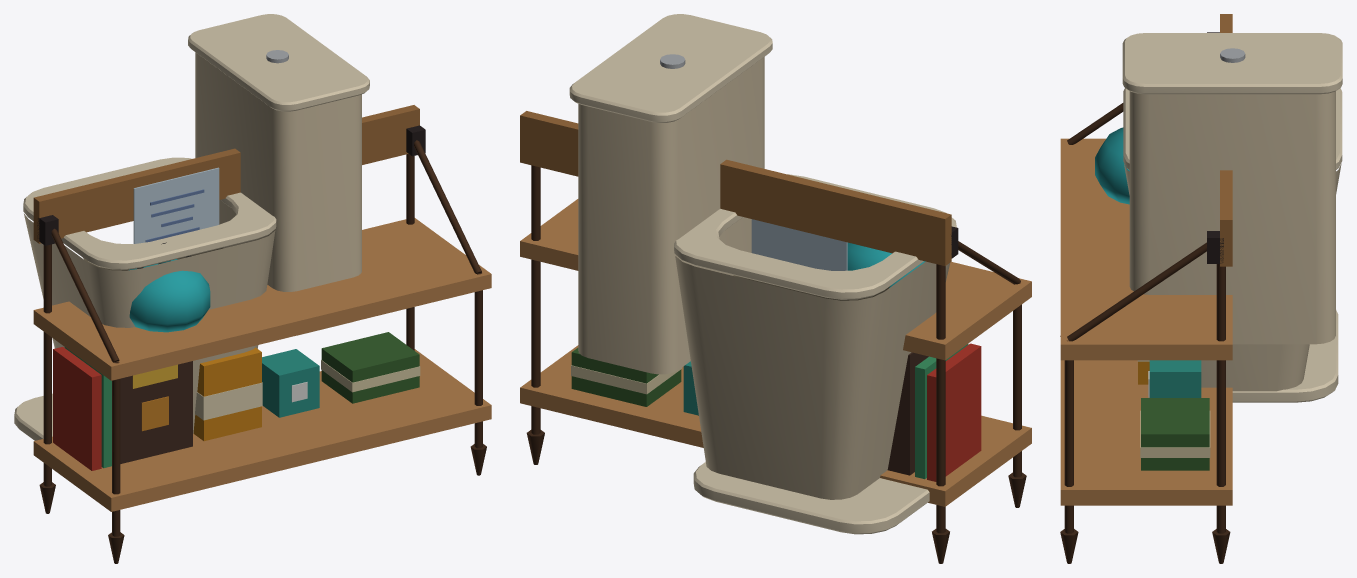
Rendered from tinyliving.glb.
3 renders of one model, left to right at view 1: azimuth 30°, elevation 25°; view 2: azimuth 150°, elevation 25°; view 3: azimuth 270°, elevation 25°, orthographic. The views are drawn at different scales.
Visible parts, largest first — view 1: shelf_q, lav_q, lid_q; view 2: lav_q, shelf_q, lid_q; view 3: lav_q, shelf_q, lid_q.
Boxes of the visible parts, bbox=[...] form: shelf_q: bbox=[33, 105, 491, 563]; lav_q: bbox=[23, 14, 369, 433]; lid_q: bbox=[14, 393, 52, 440]; lav_q: bbox=[569, 14, 956, 499]; shelf_q: bbox=[520, 111, 1031, 563]; lid_q: bbox=[693, 462, 929, 534]; lav_q: bbox=[1122, 33, 1342, 391]; shelf_q: bbox=[1060, 14, 1232, 563]; lid_q: bbox=[1232, 310, 1338, 402].
Size of the model in its own units: 0.85 by 0.848 by 0.493.
